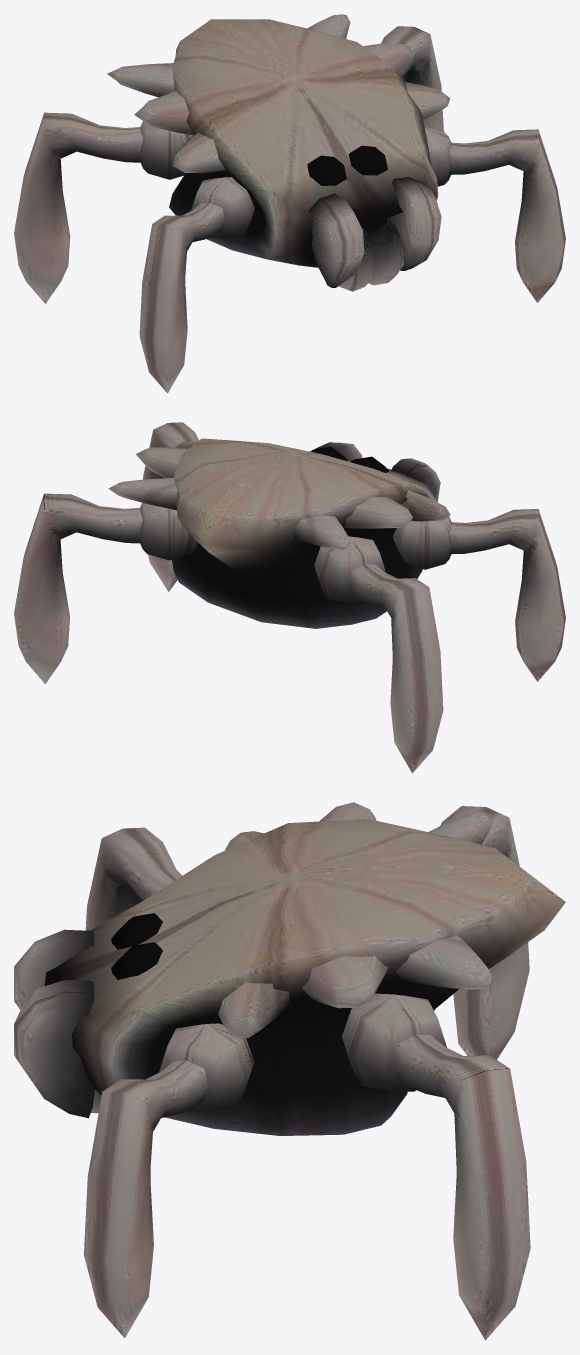
File: Crab.glb
3 views of the same model, one above another, from view 1: azimuth 30°, elevation 25°; view 2: azimuth 150°, elevation 25°; view 3: azimuth 270°, elevation 25° (orthographic). The views are drawn at different scales.
Visible parts, largest first — view 1: CrabBody, CrabLeg4, CrabLeg2, CrabLeg1, Tooth1, Tooth2, CrabLeg3, CrabEyes, Tooth4, Tooth3; view 2: CrabBody, CrabLeg3, CrabLeg4, CrabLeg2, CrabLeg1, Tooth1, CrabEyes; view 3: CrabBody, CrabLeg3, CrabLeg1, Tooth2, CrabLeg4, CrabLeg2, Tooth1, CrabEyes.
Boxes of the visible parts, box(x1,y1,x2,y2) form: CrabBody: box(107, 14, 450, 267); CrabLeg4: box(14, 112, 192, 303); CrabLeg2: box(139, 177, 254, 393); CrabLeg1: box(424, 126, 565, 302); Tooth1: box(308, 193, 364, 287); Tooth2: box(386, 177, 441, 270); CrabLeg3: box(381, 26, 443, 131); CrabEyes: box(307, 145, 387, 185); Tooth4: box(368, 222, 404, 285); Tooth3: box(338, 228, 373, 291); CrabBody: box(108, 438, 450, 628); CrabLeg3: box(14, 493, 197, 683); CrabLeg4: box(314, 536, 443, 773); CrabLeg2: box(393, 509, 565, 681); CrabLeg1: box(143, 422, 198, 591); Tooth1: box(391, 458, 440, 502); CrabEyes: box(310, 446, 388, 472); CrabBody: box(44, 802, 565, 1135); CrabLeg3: box(342, 993, 530, 1340); CrabLeg1: box(84, 1023, 254, 1337); Tooth2: box(14, 980, 94, 1118); CrabLeg4: box(440, 806, 529, 1059); CrabLeg2: box(85, 827, 182, 930); Tooth1: box(14, 929, 94, 1009); CrabEyes: box(111, 913, 162, 979).
Bounding box in the file's own units: 6.37 × 3.38 × 4.91.
Materials: 2 (1 with a texture image).
